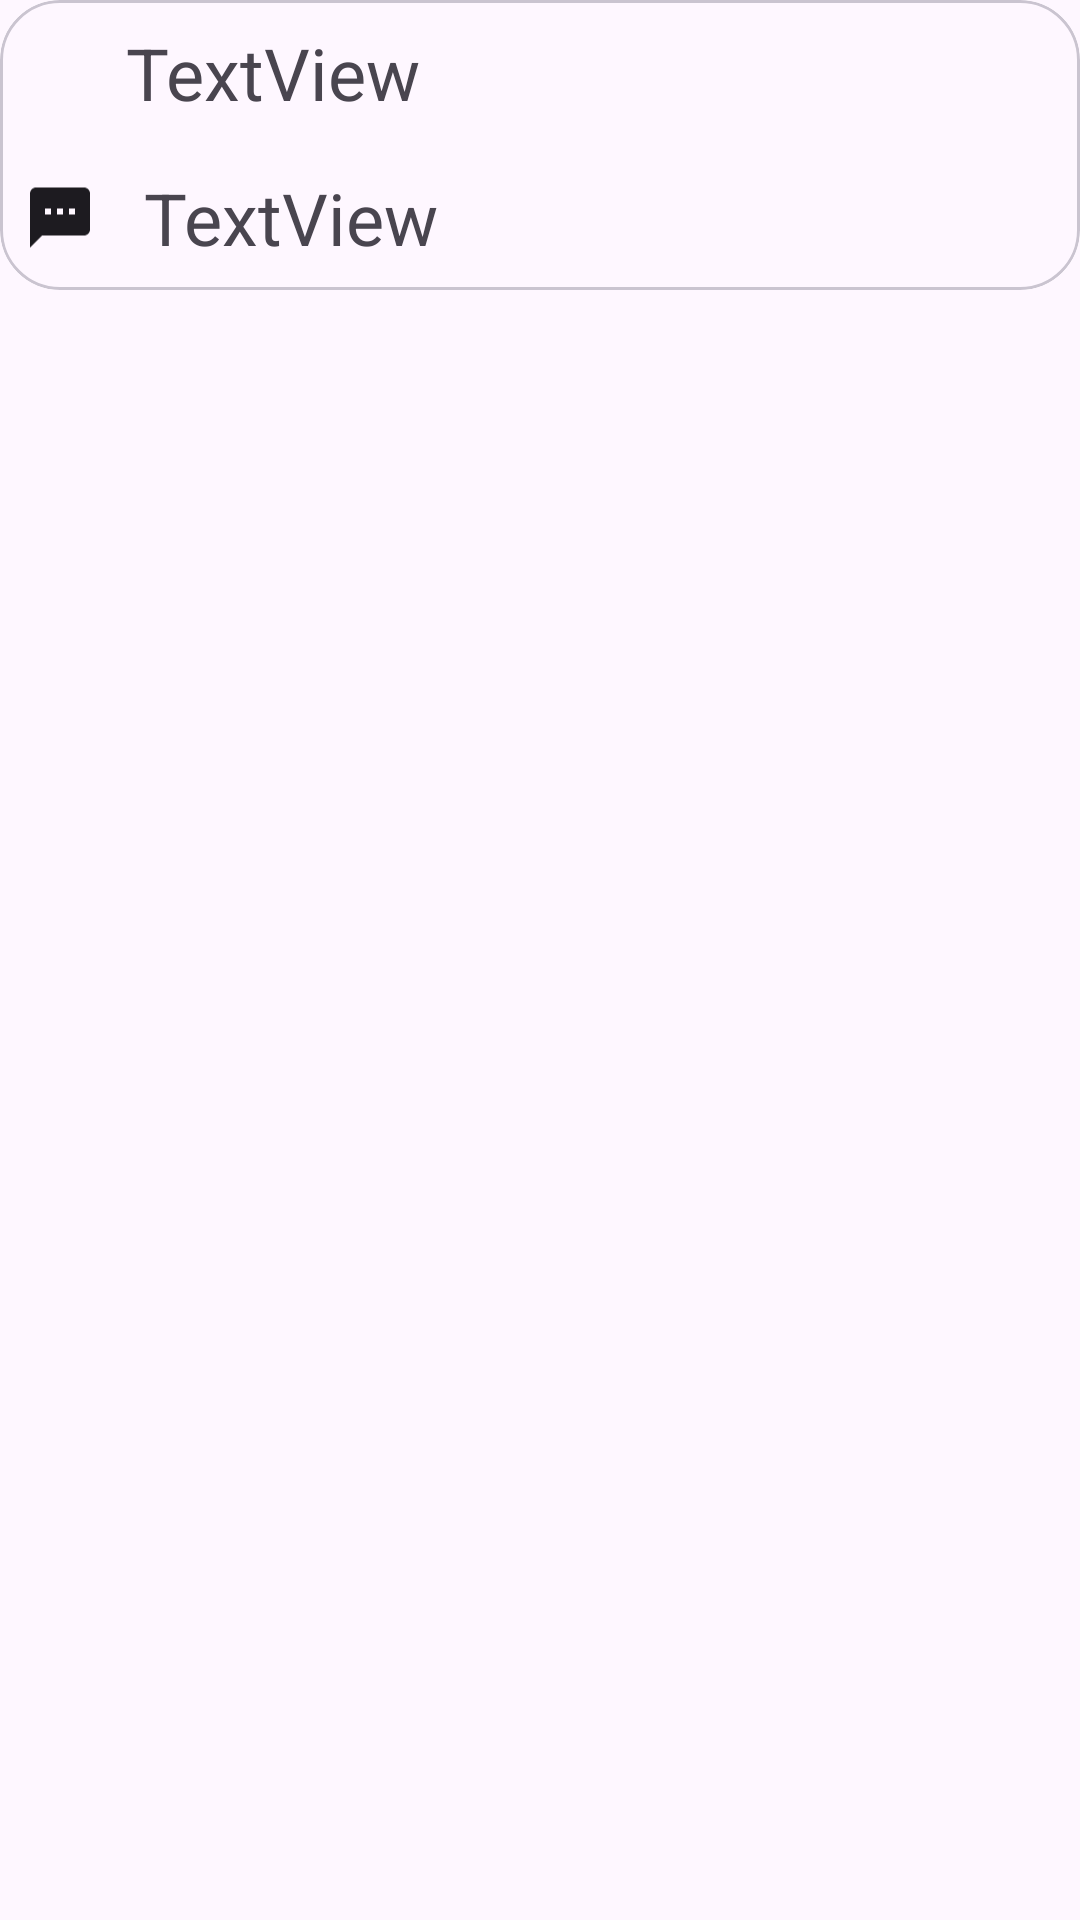

Locate icon controls on the screen. Image size 1080 x 1920, boxes as (x1, y1, x2, y2).
textsms: (30, 187, 90, 248)
